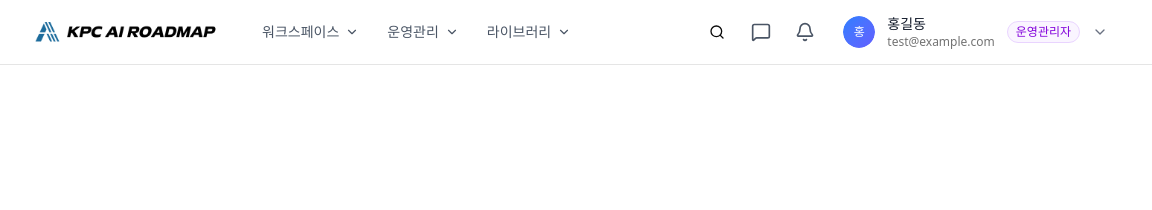
Test: Navigation › OPS 관리자 역할 › 드롭다운 열린 상태에서 다시 클릭하면 닫힌다
The width and height of the screenshot is (1152, 210).
Click the button "워크스페이스": click(311, 32) [250,14,371,50]
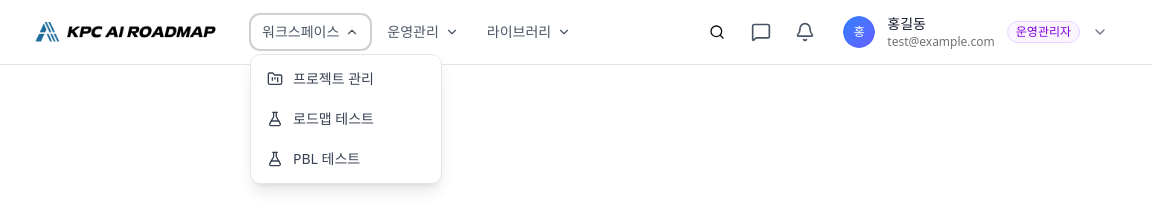
Now the link "프로젝트 관리" is shown, box [267,69,374,88]
Click the button "워크스페이스": click(311, 32) [250,14,371,50]
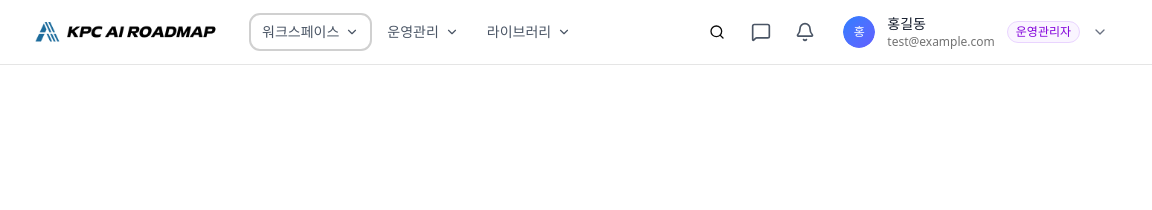
Now the link "프로젝트 관리" is gone
